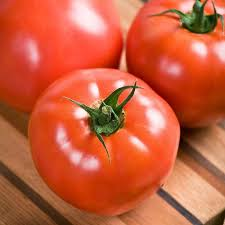tomato: (28, 66, 180, 212)
